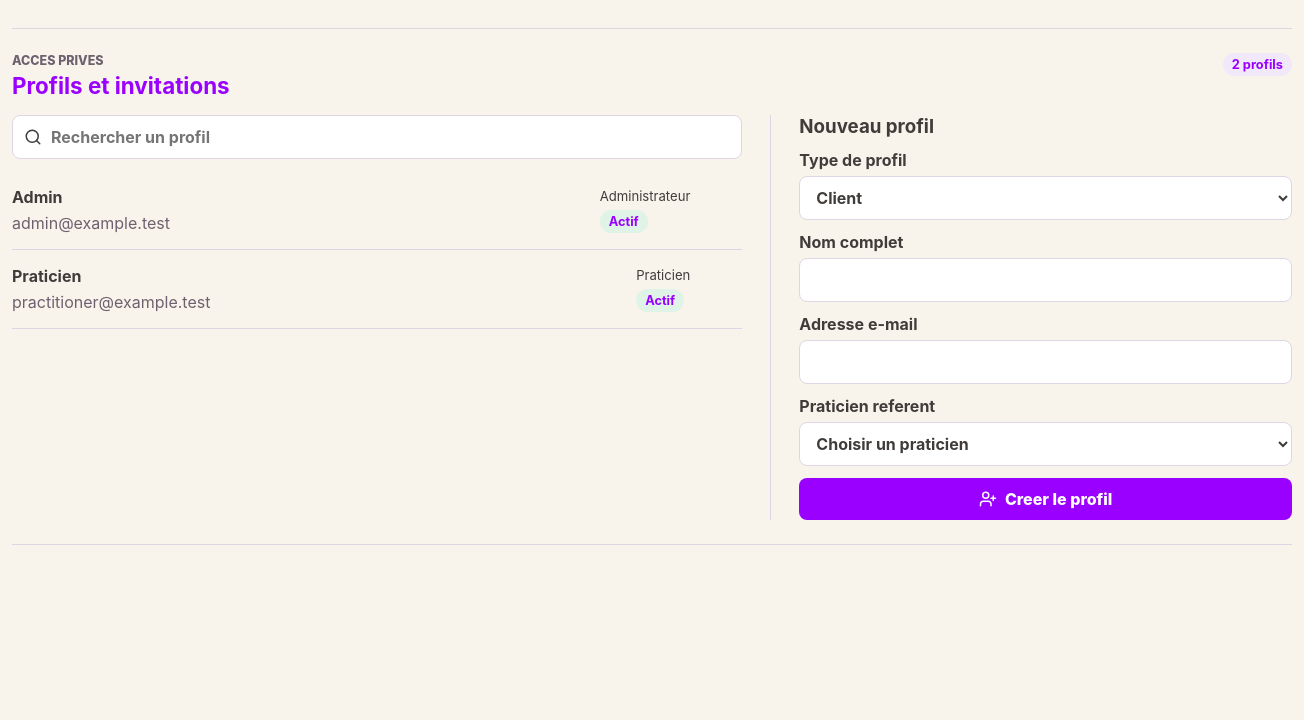
Test case: profile interface › lets an admin choose all roles and a client's practitioner
The image size is (1304, 720).
Step 1. Type "Client invite" into the field labelled "Nom complet" → x=1046, y=280, box [799,258,1292,302]
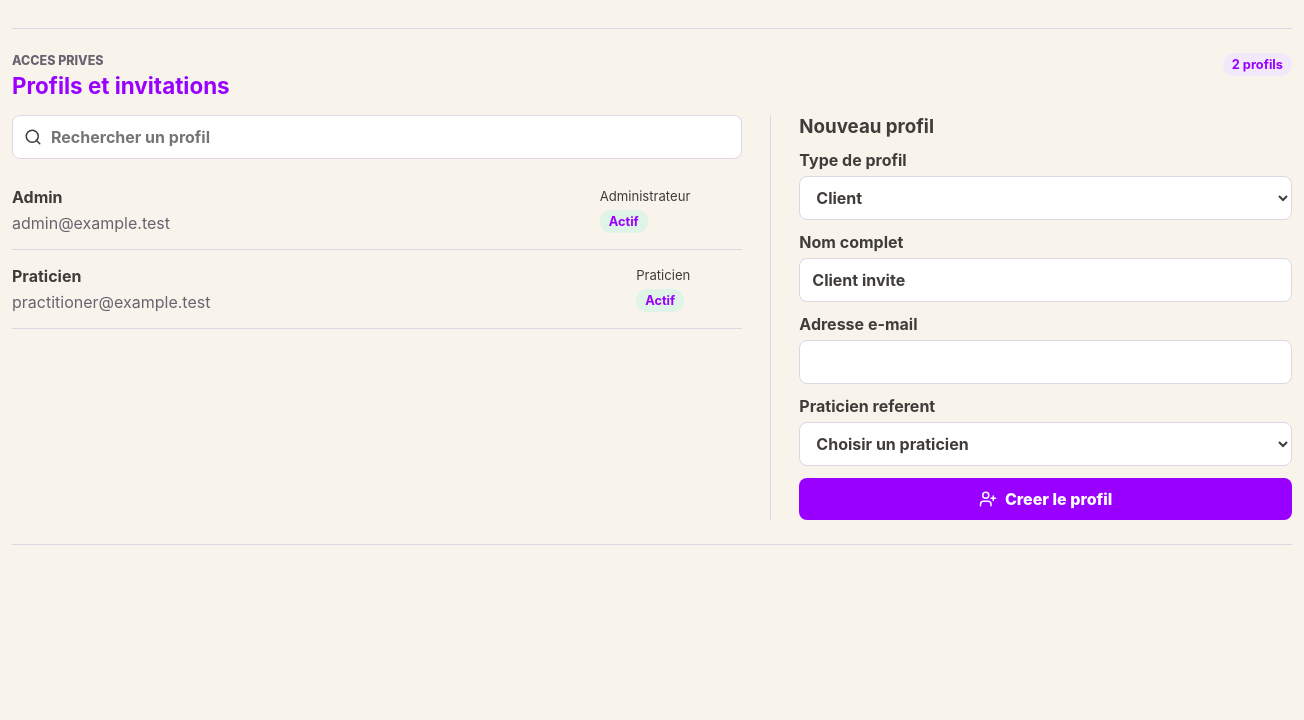
Step 2. Type "client@example.test" into the field labelled "Adresse e-mail" → x=1046, y=362, box [799,340,1292,384]
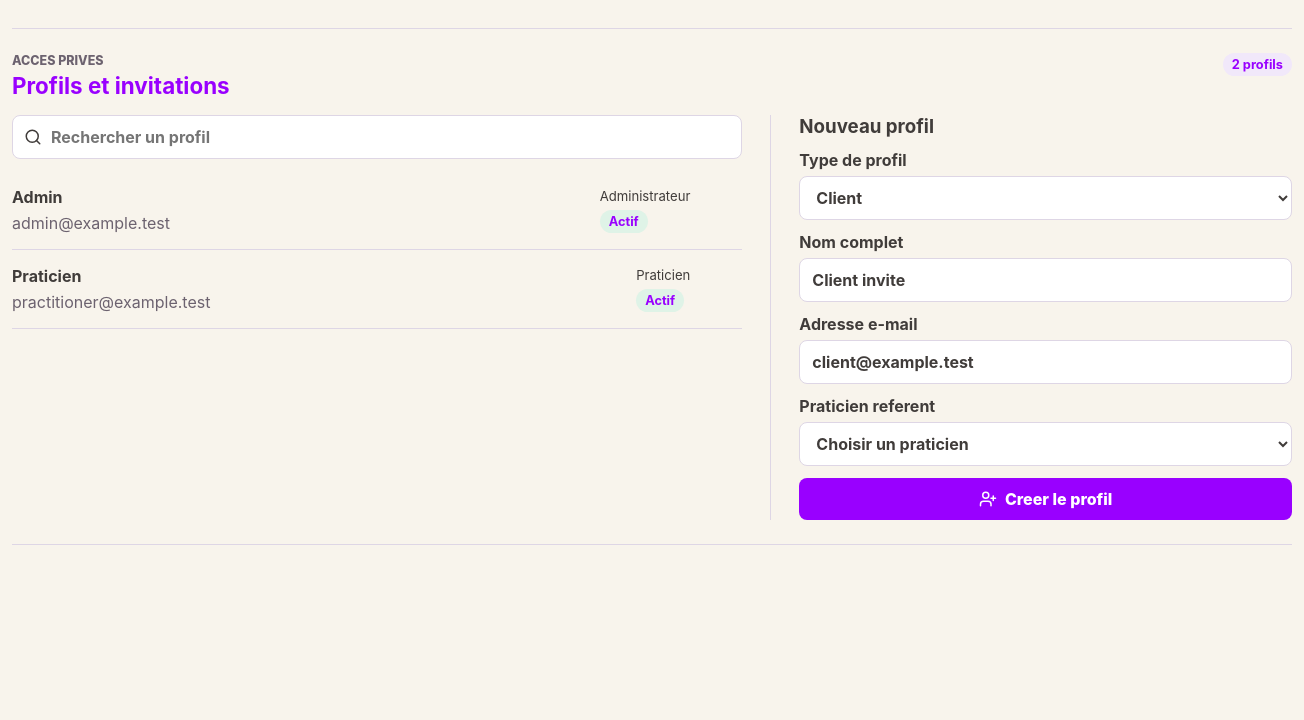
Step 3. Select "Praticien" in the dropdown labelled "Praticien referent" → x=1046, y=444, box [799,422,1292,466]
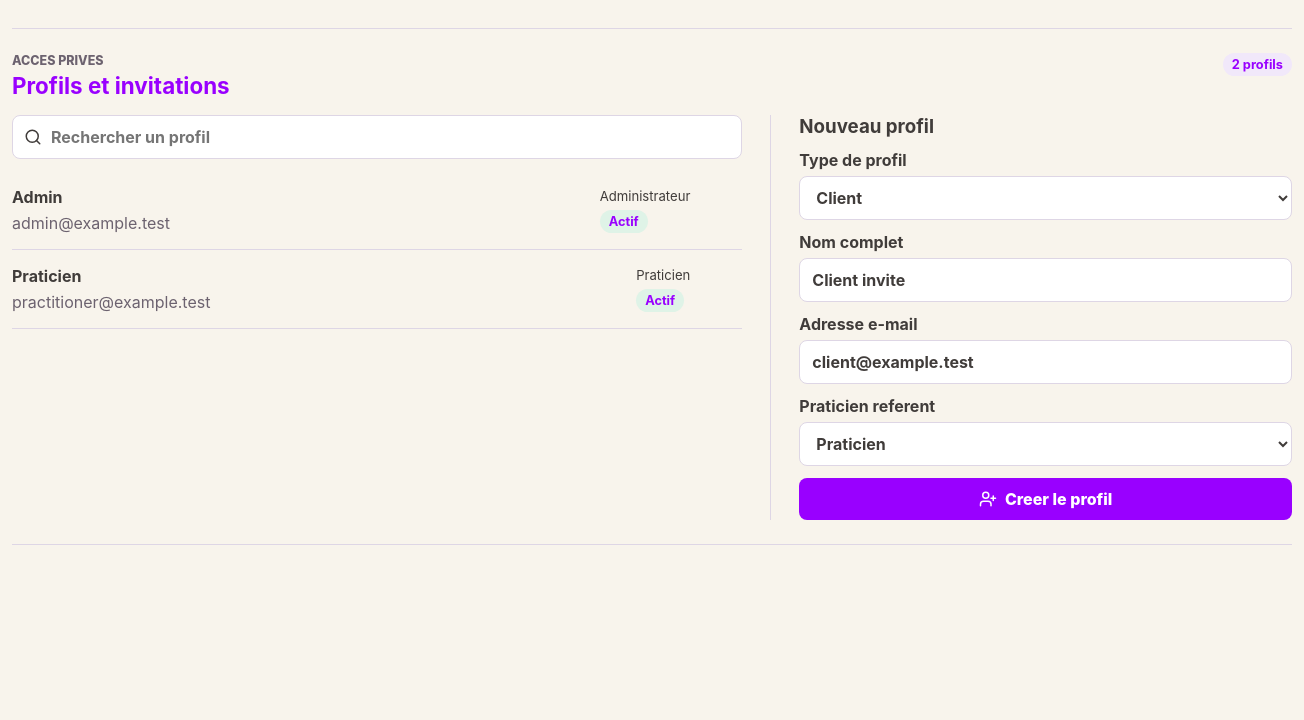
Step 4. Submit the form named "Creation de profil", box [799,115,1292,520]
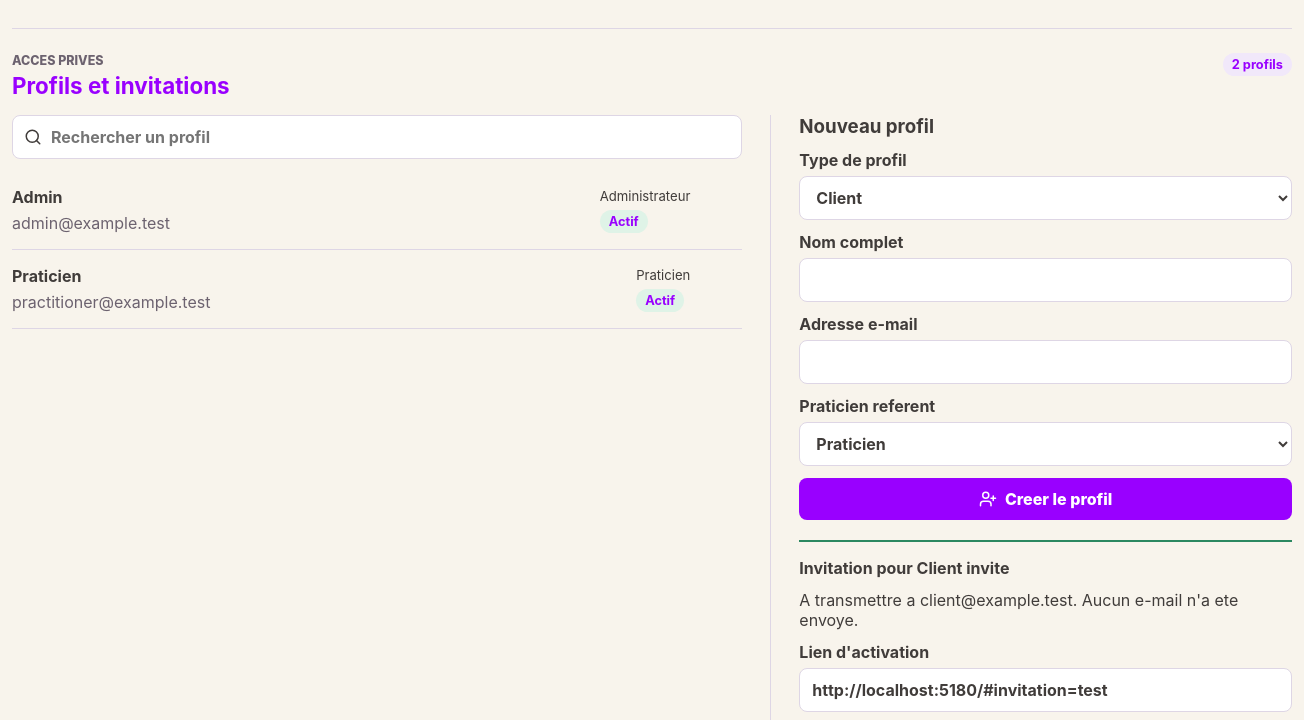
Check: the field showing "http://localhost:5180/#invitation=test" is shown, box [799,668,1292,712]
Check: the text "Aucun e-mail n'a ete envoye" is shown, box [799,590,1238,630]
